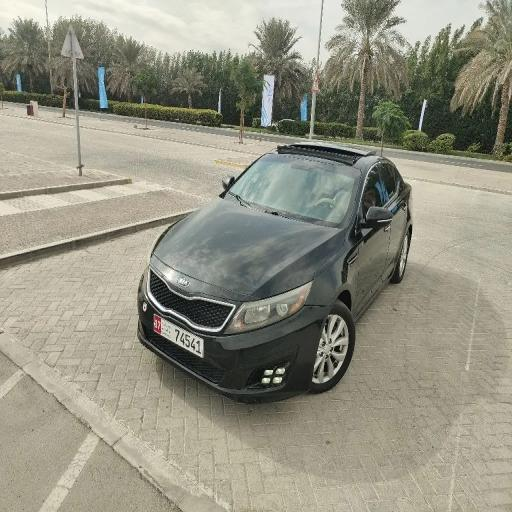license-plates: (154, 314, 204, 358)
